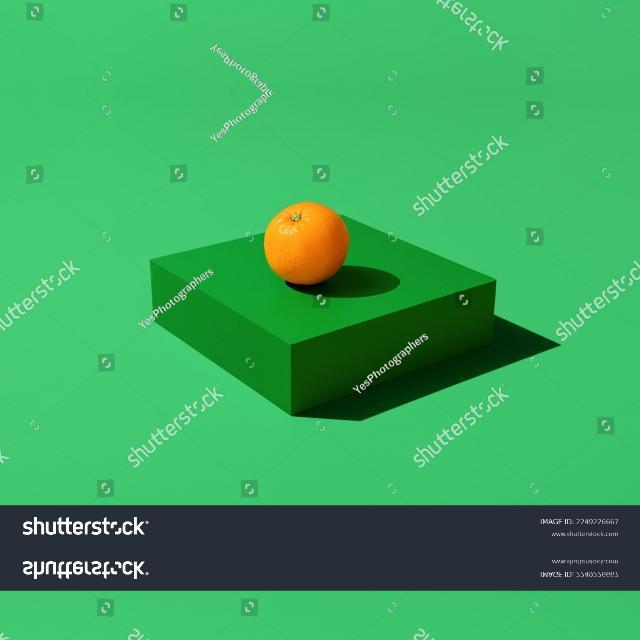Orange: (262, 200, 349, 285)
